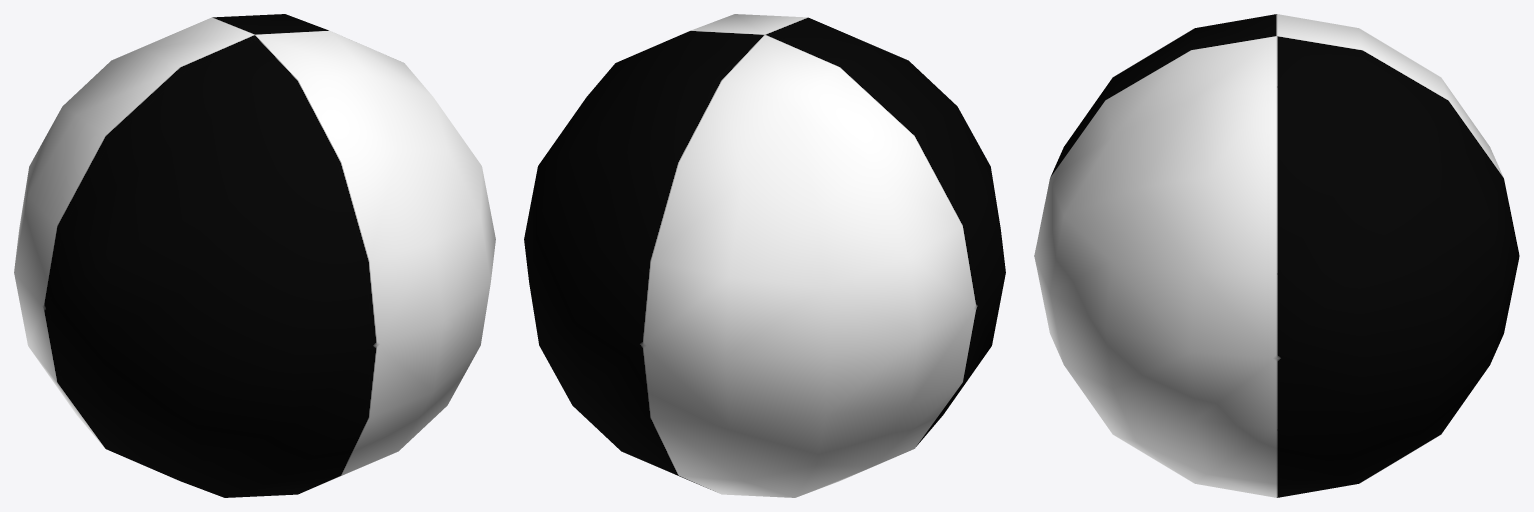
Rendered from ncube.obj.
The picture shows the model from 3 angles, left to right: view 1: azimuth 30°, elevation 25°; view 2: azimuth 150°, elevation 25°; view 3: azimuth 270°, elevation 25°; orthographic projection.
Bounding box in the file's own units: 2 × 2 × 2.
